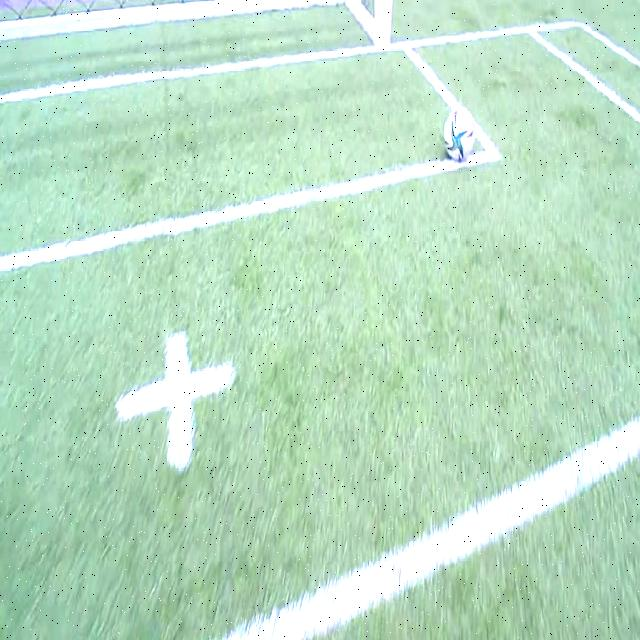ball: (443, 106, 475, 162)
